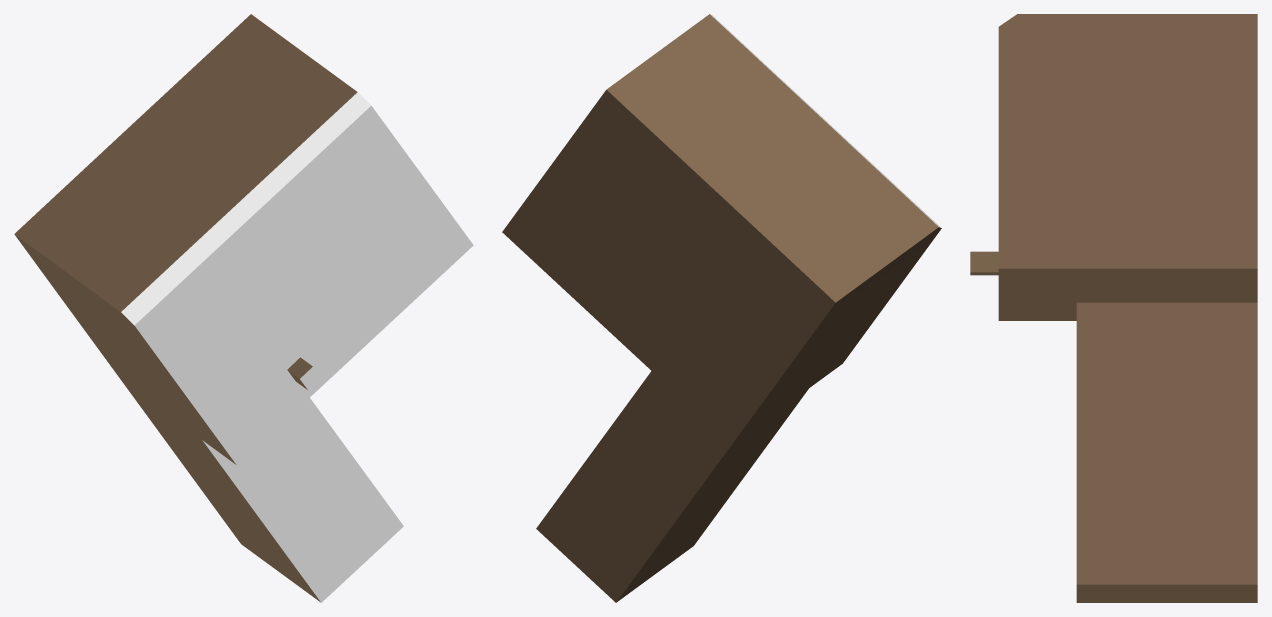
The picture shows the model from 3 angles, left to right: view 1: azimuth 30°, elevation 25°; view 2: azimuth 150°, elevation 25°; view 3: azimuth 270°, elevation 25°; orthographic projection. The views are drawn at different scales.
Visible parts, largest first — view 1: City_1884910; view 2: City_1884910; view 3: City_1884910.
Part boxes in pixels (box(x1,y1,x2,y2)): City_1884910: box(14, 14, 473, 602); City_1884910: box(502, 14, 941, 602); City_1884910: box(970, 14, 1257, 602).
Size of the model in its own units: 1870 by 2737 by 1200.
